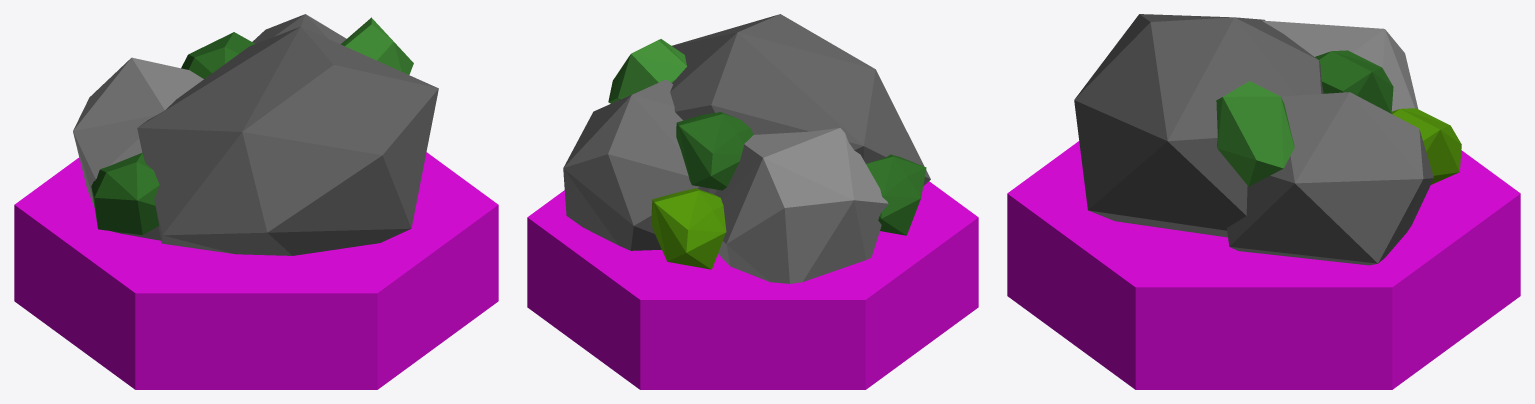
File: Stone2.fbx
The picture shows the model from 3 angles, left to right: view 1: azimuth 30°, elevation 25°; view 2: azimuth 150°, elevation 25°; view 3: azimuth 270°, elevation 25°; orthographic projection. The views are drawn at different scales.
Visible parts, largest first — view 1: Cylinder; view 2: Cylinder; view 3: Cylinder.
Boxes of the visible parts, bbox=[...] form: Cylinder: bbox=[14, 14, 498, 389]; Cylinder: bbox=[527, 14, 978, 389]; Cylinder: bbox=[1007, 14, 1520, 389].
Size of the model in its own units: 173 by 127 by 200.
